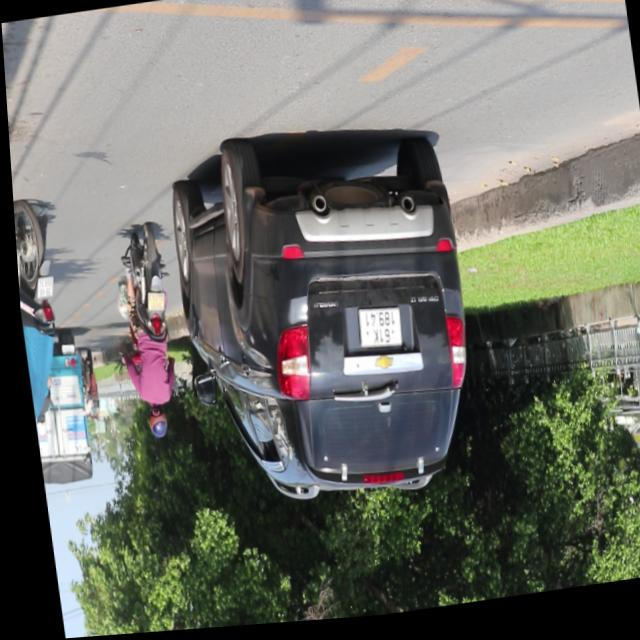helmet: (140, 404, 164, 441)
licenseplate: (10, 194, 76, 469), (102, 224, 183, 446)
nohelmet: (30, 277, 50, 300), (141, 291, 161, 313)
